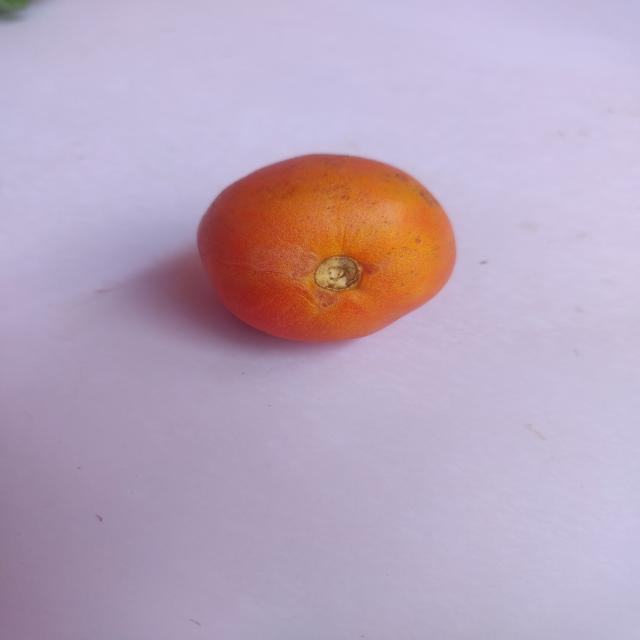Tomato: (176, 142, 464, 356)
